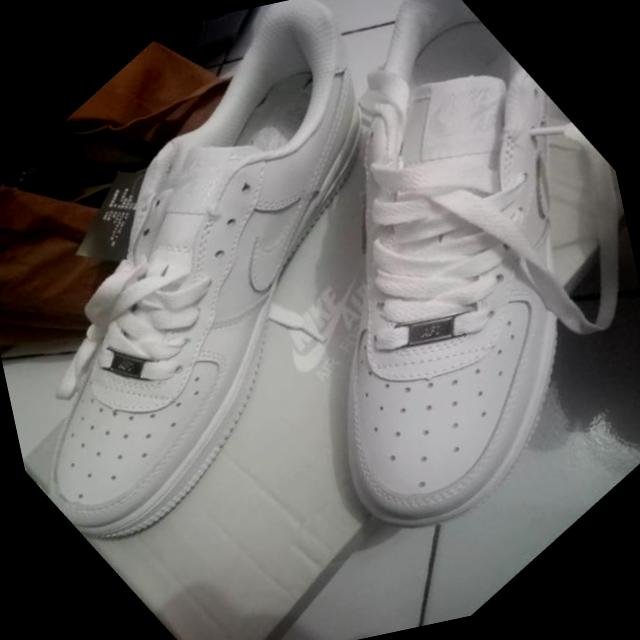nike_fake_airforce: (77, 0, 640, 606), (0, 0, 559, 579)
